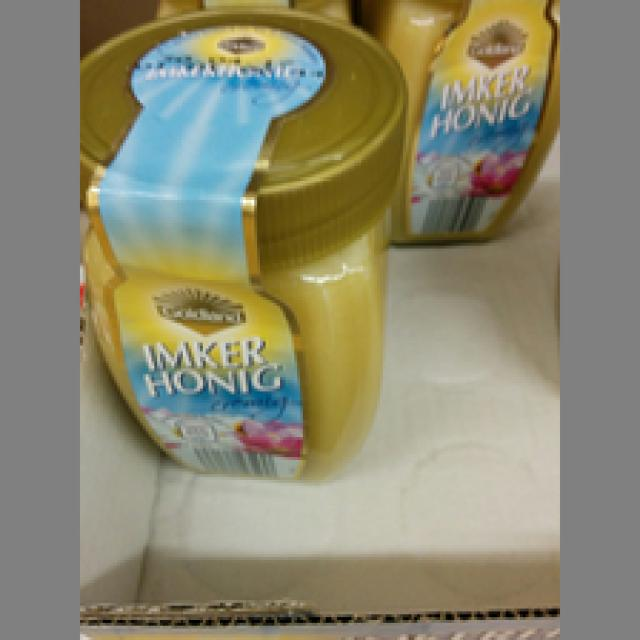groceries: (71, 9, 412, 480), (369, 0, 560, 240)
